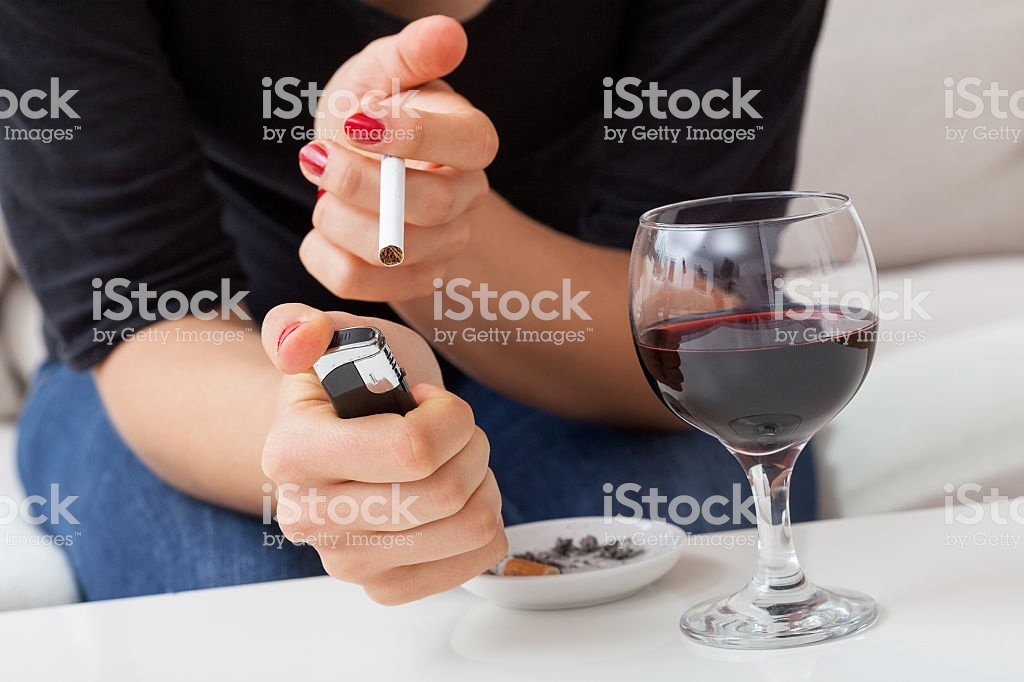sigaretta: (371, 128, 406, 267)
